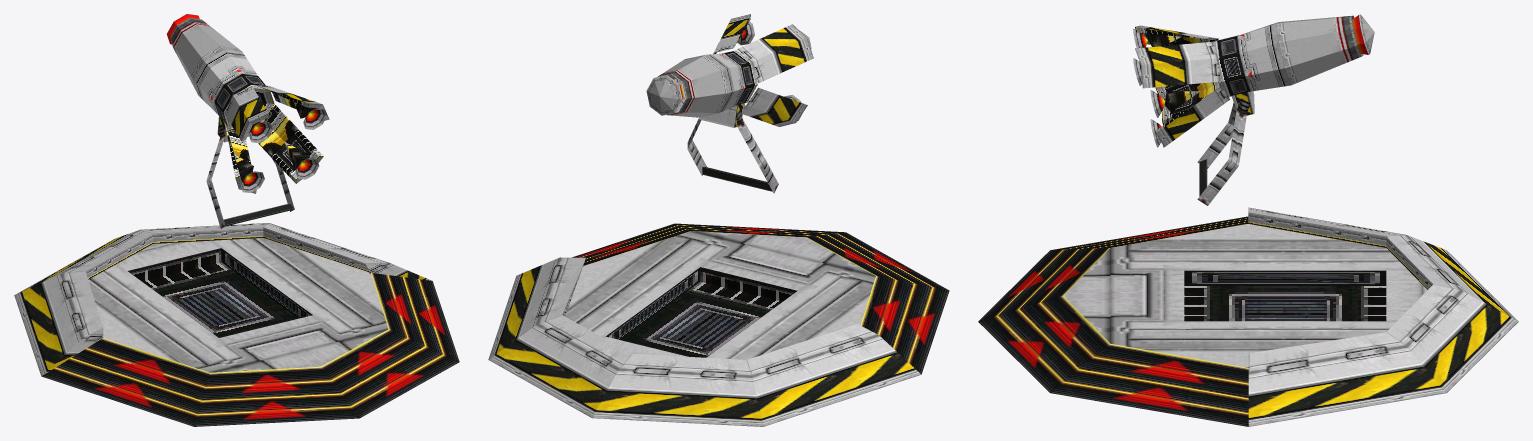
Rendered from Rocket.obj.
3 views of the same model, side by side, from view 1: azimuth 30°, elevation 25°; view 2: azimuth 150°, elevation 25°; view 3: azimuth 270°, elevation 25° (orthographic). The views are drawn at different scales.
Bounding box in the file's own units: 35 × 23.77 × 38.
3 materials, 3 textured.
